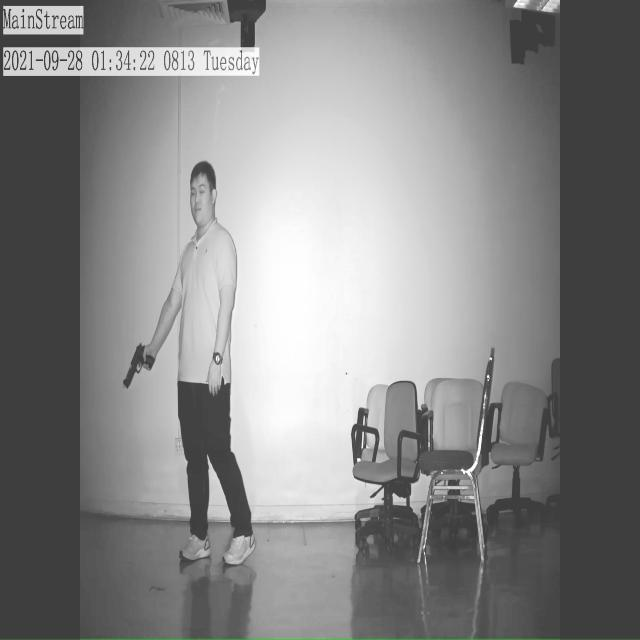Gun: (116, 336, 162, 392)
